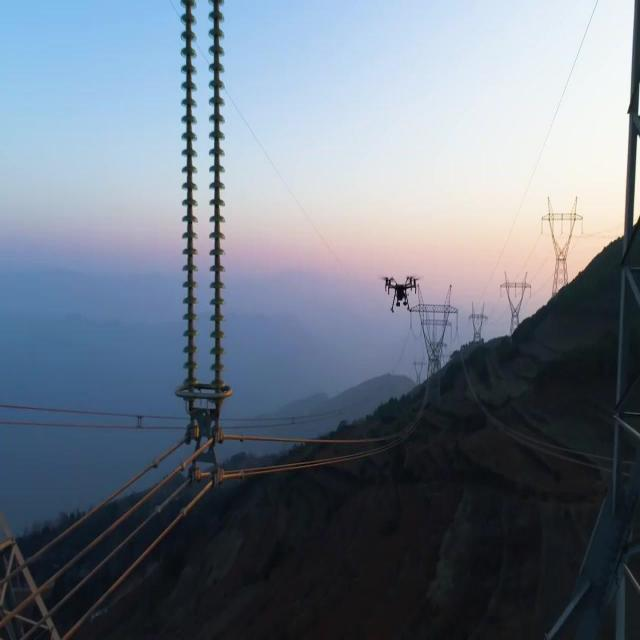UAV: (380, 276, 422, 314)
